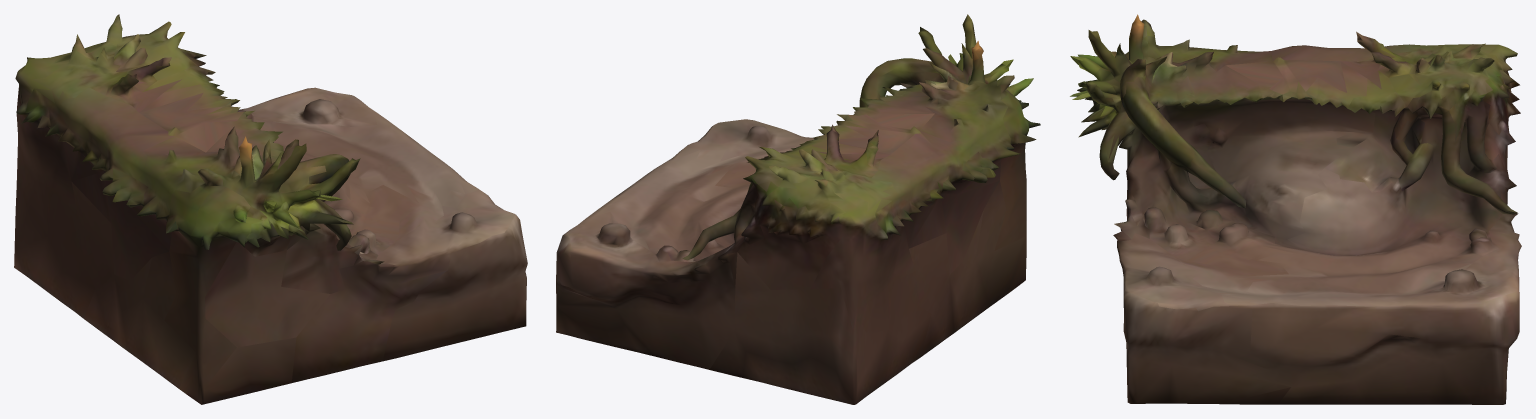
Rendered from t10_lama_raizes.glb.
The picture shows the model from 3 angles, left to right: view 1: azimuth 30°, elevation 25°; view 2: azimuth 150°, elevation 25°; view 3: azimuth 270°, elevation 25°; orthographic projection. The views are drawn at different scales.
Parts seen in each view (by area): view 1: t10_lama_raizes; view 2: t10_lama_raizes; view 3: t10_lama_raizes.
Part boxes in pixels (<box>): t10_lama_raizes: <box>14,14,527,404</box>; t10_lama_raizes: <box>556,14,1040,404</box>; t10_lama_raizes: <box>1070,14,1521,404</box>.
Bounding box in the file's own units: 1.04 × 0.7016 × 1.12.
1 material, 1 textured.
